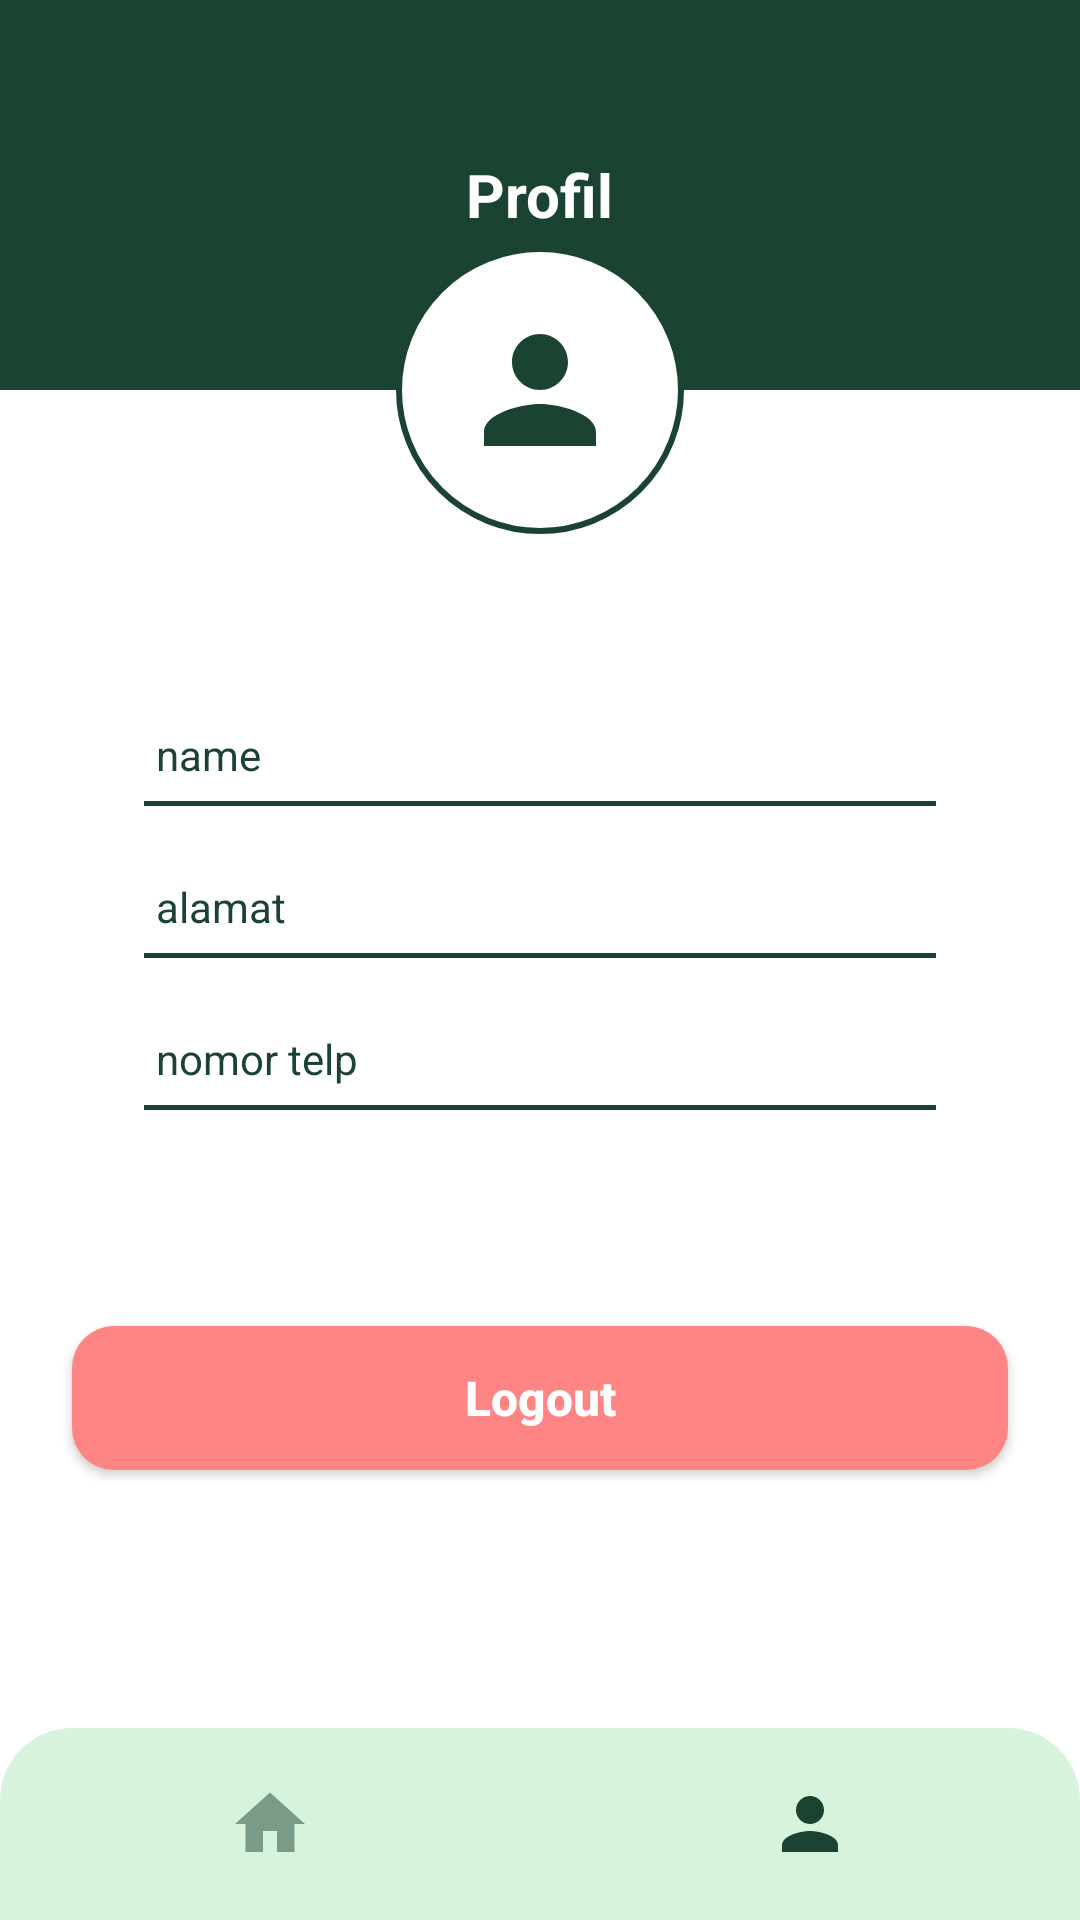

Icons on this 1080x1920 Android screen, each with the point to tap as [x,y]:
Home Nav: [270,1822]
Profile Nav: [810,1824]
